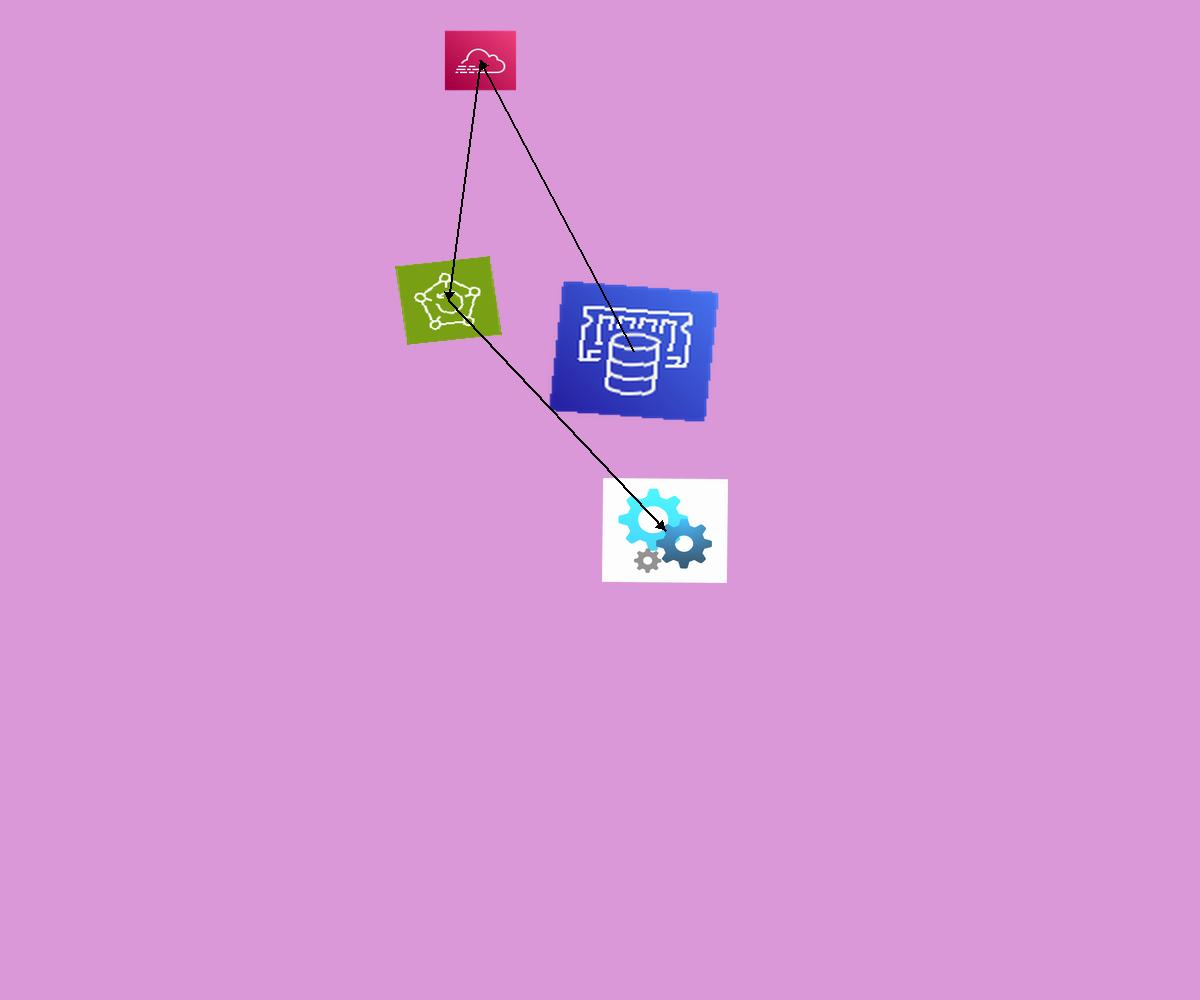AWS-Backup: (395, 256, 502, 345)
AWS-CloudTrail: (444, 30, 517, 91)
AWS-ElastiCache: (548, 280, 720, 423)
Azure_api: (602, 478, 728, 583)
